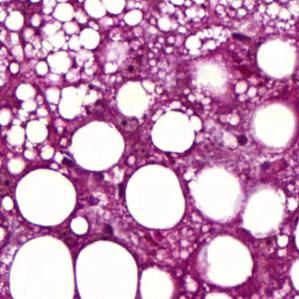steatosis: (124, 165, 188, 232), (14, 170, 80, 229), (67, 119, 126, 172), (151, 109, 205, 152)
